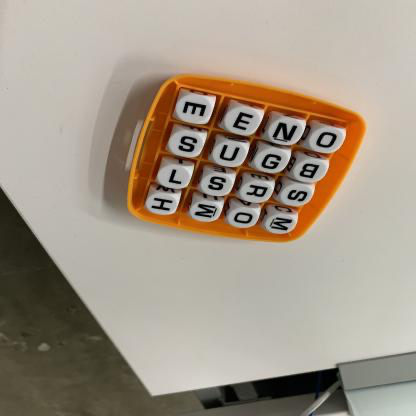b: (295, 159, 328, 183)
e: (176, 95, 214, 124), (225, 107, 261, 135)
g: (255, 149, 288, 174)
h: (147, 194, 178, 216)
l: (158, 165, 192, 190)
m: (191, 201, 222, 223), (266, 214, 296, 235)
n: (268, 119, 305, 146)
o: (310, 128, 346, 154), (229, 208, 259, 229)
r: (241, 181, 273, 204)
s: (169, 131, 205, 158), (201, 174, 233, 198), (281, 185, 313, 208)
u: (212, 141, 248, 168)
